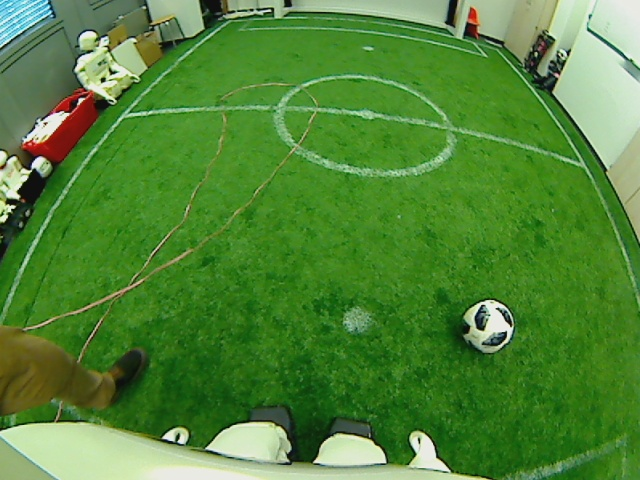ball: (459, 296, 515, 354)
